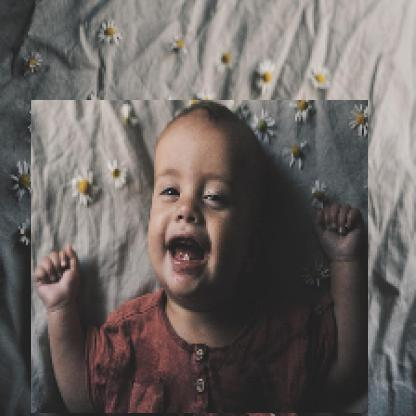child: (33, 101, 371, 415)
